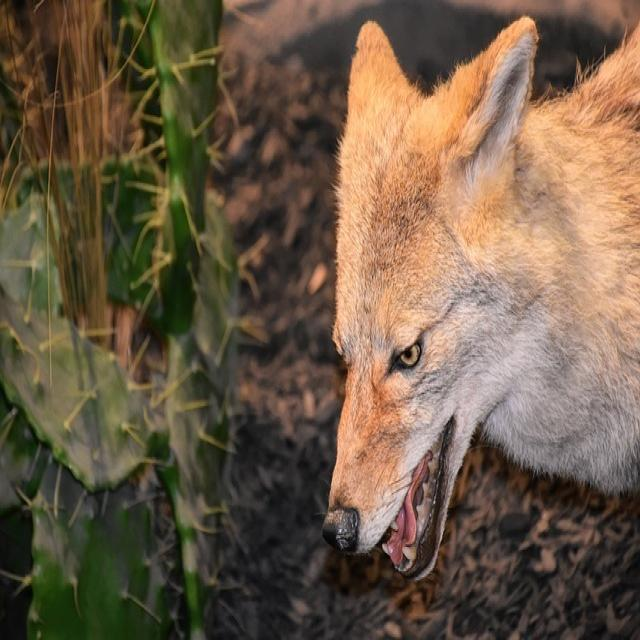Carnivorous: (321, 16, 640, 610)
